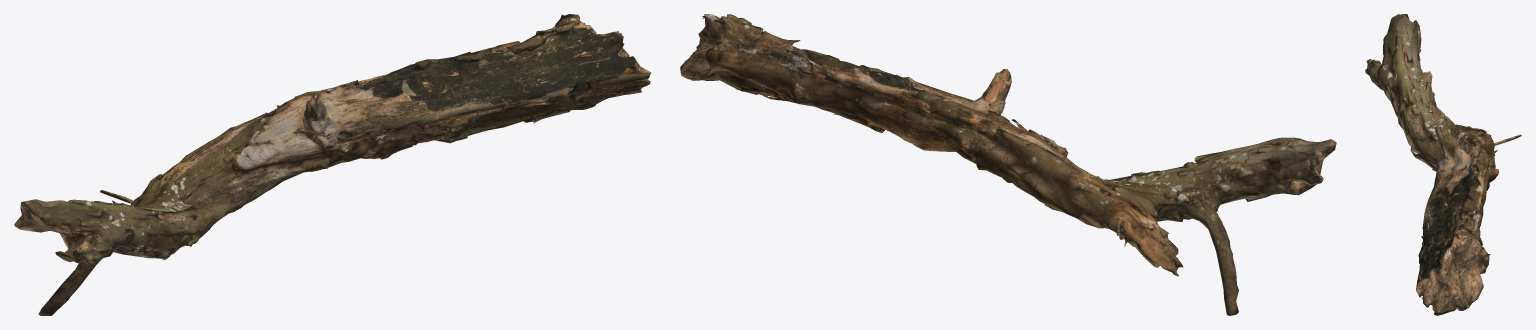
File: dead_tree_trunk_02.glb
3 views of the same model, side by side, from view 1: azimuth 30°, elevation 25°; view 2: azimuth 150°, elevation 25°; view 3: azimuth 270°, elevation 25° (orthographic). The views are drawn at different scales.
Visible parts, largest first — view 1: dead_tree_trunk_02; view 2: dead_tree_trunk_02; view 3: dead_tree_trunk_02.
Part boxes in pixels (<box>): dead_tree_trunk_02: <box>14,14,651,315</box>; dead_tree_trunk_02: <box>680,14,1336,315</box>; dead_tree_trunk_02: <box>1365,14,1521,315</box>.
Bounding box in the file's own units: 4.05 × 1.05 × 1.05.
Materials: 1 (1 with a texture image).
